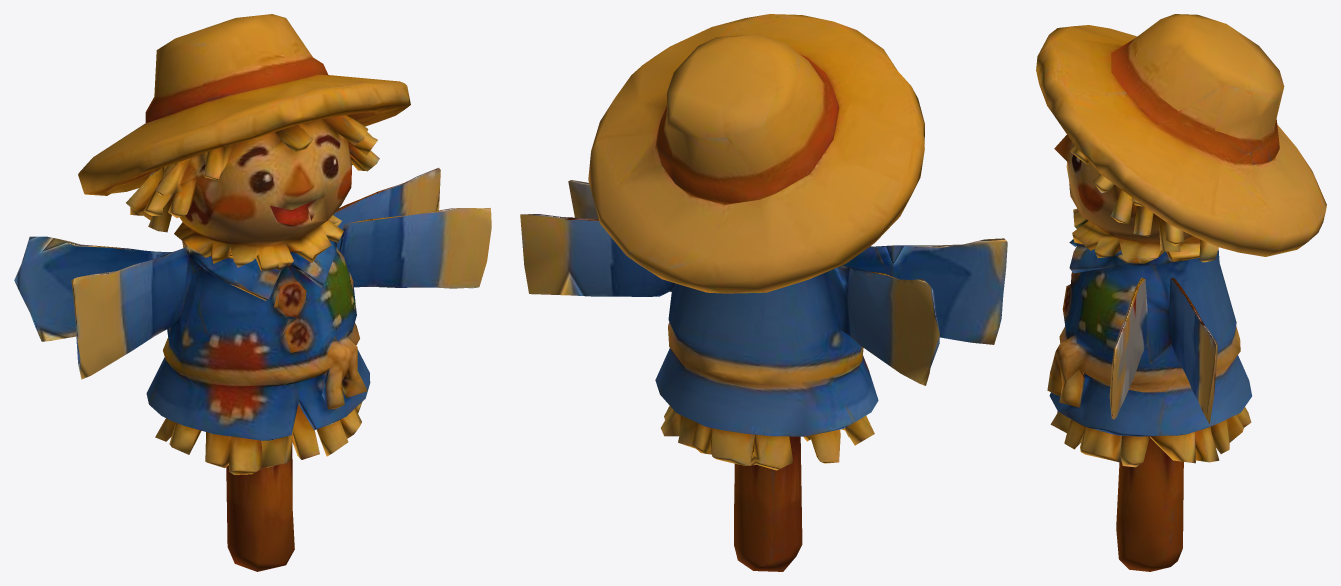
File: scarecrow.glb
3 renders of one model, left to right at view 1: azimuth 30°, elevation 25°; view 2: azimuth 150°, elevation 25°; view 3: azimuth 270°, elevation 25°, orthographic.
Parts seen in each view (by area): view 1: textured_mesh.obj; view 2: textured_mesh.obj; view 3: textured_mesh.obj.
Boxes of the visible parts, x1,y1,x2,y2 form: textured_mesh.obj: (14, 14, 491, 571); textured_mesh.obj: (520, 14, 1007, 571); textured_mesh.obj: (1036, 14, 1326, 571).
Size of what is drawn, in the model's own units: 1.52 by 1.8 by 0.8805.
1 material, 1 textured.
